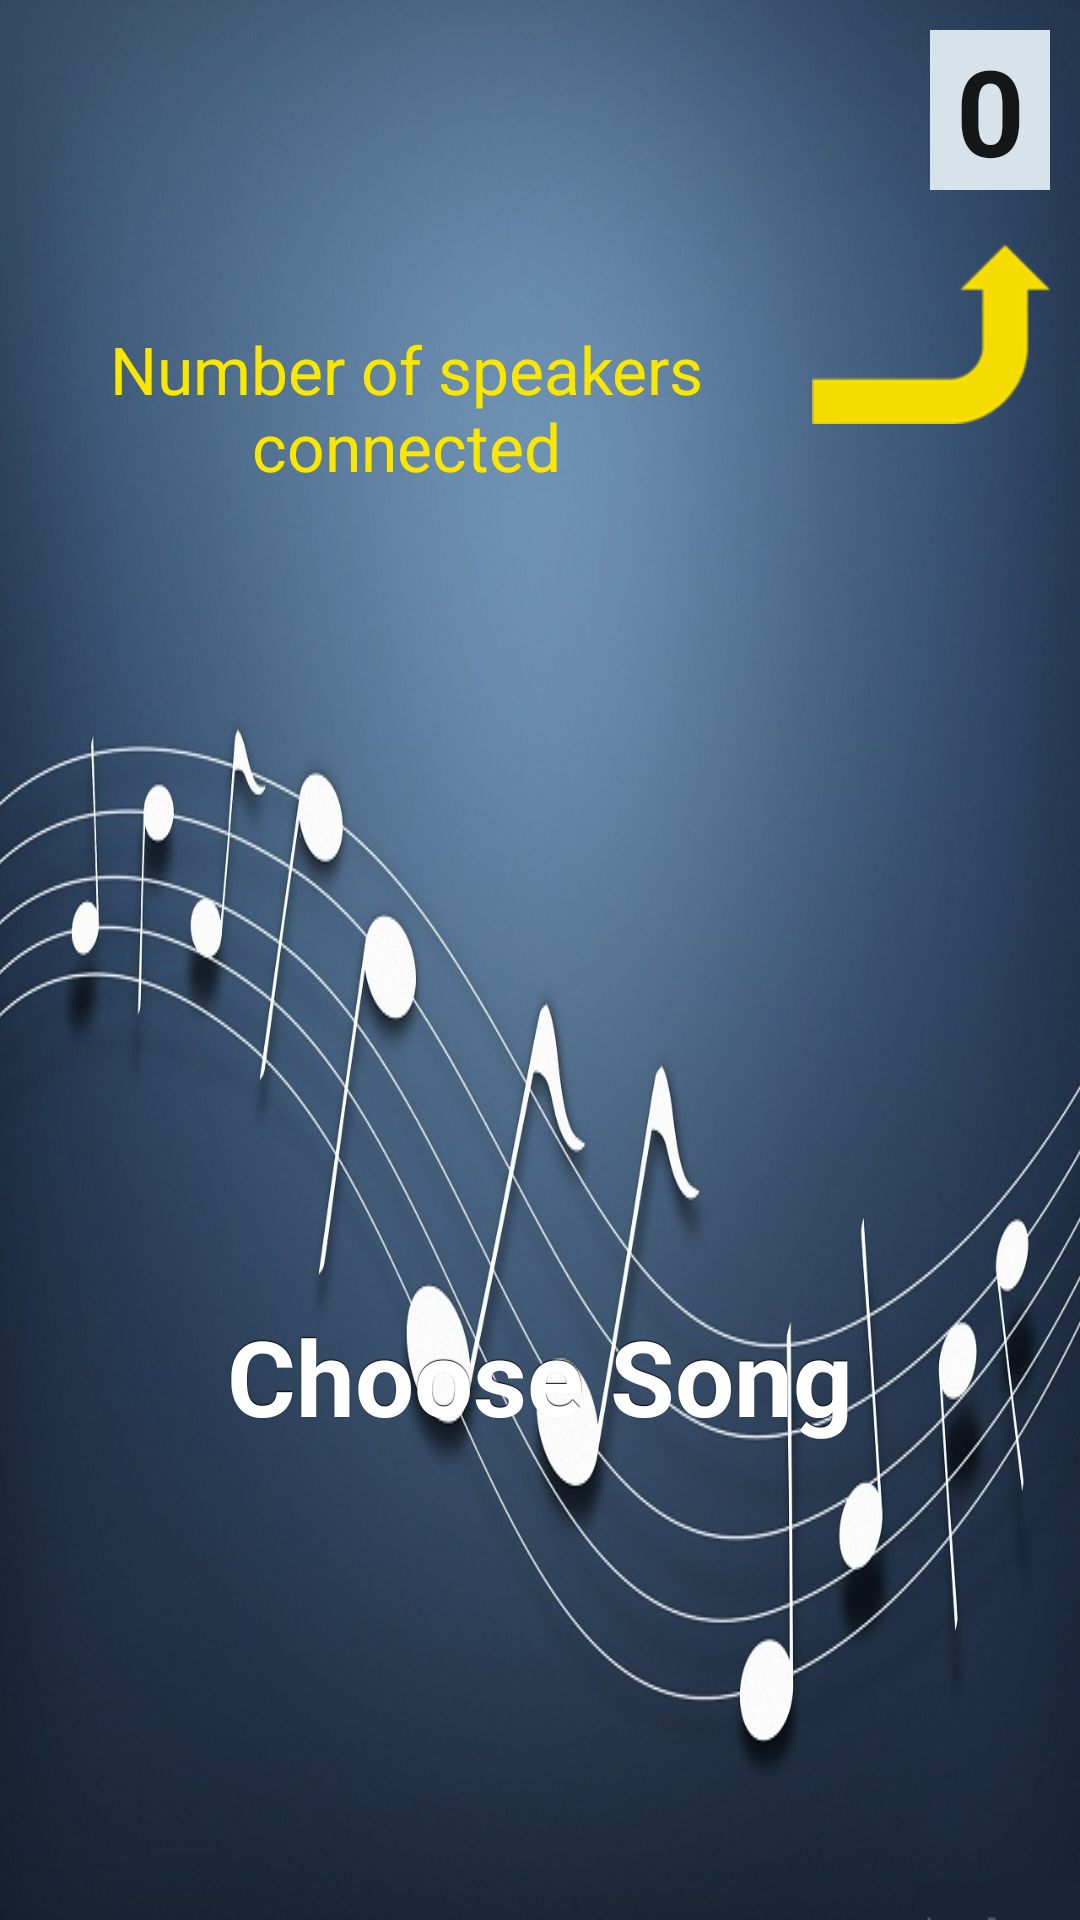

Point at icon controls on the screen. Image size 1080px×1920px, points as [x,y].
arrow: [931,334]
